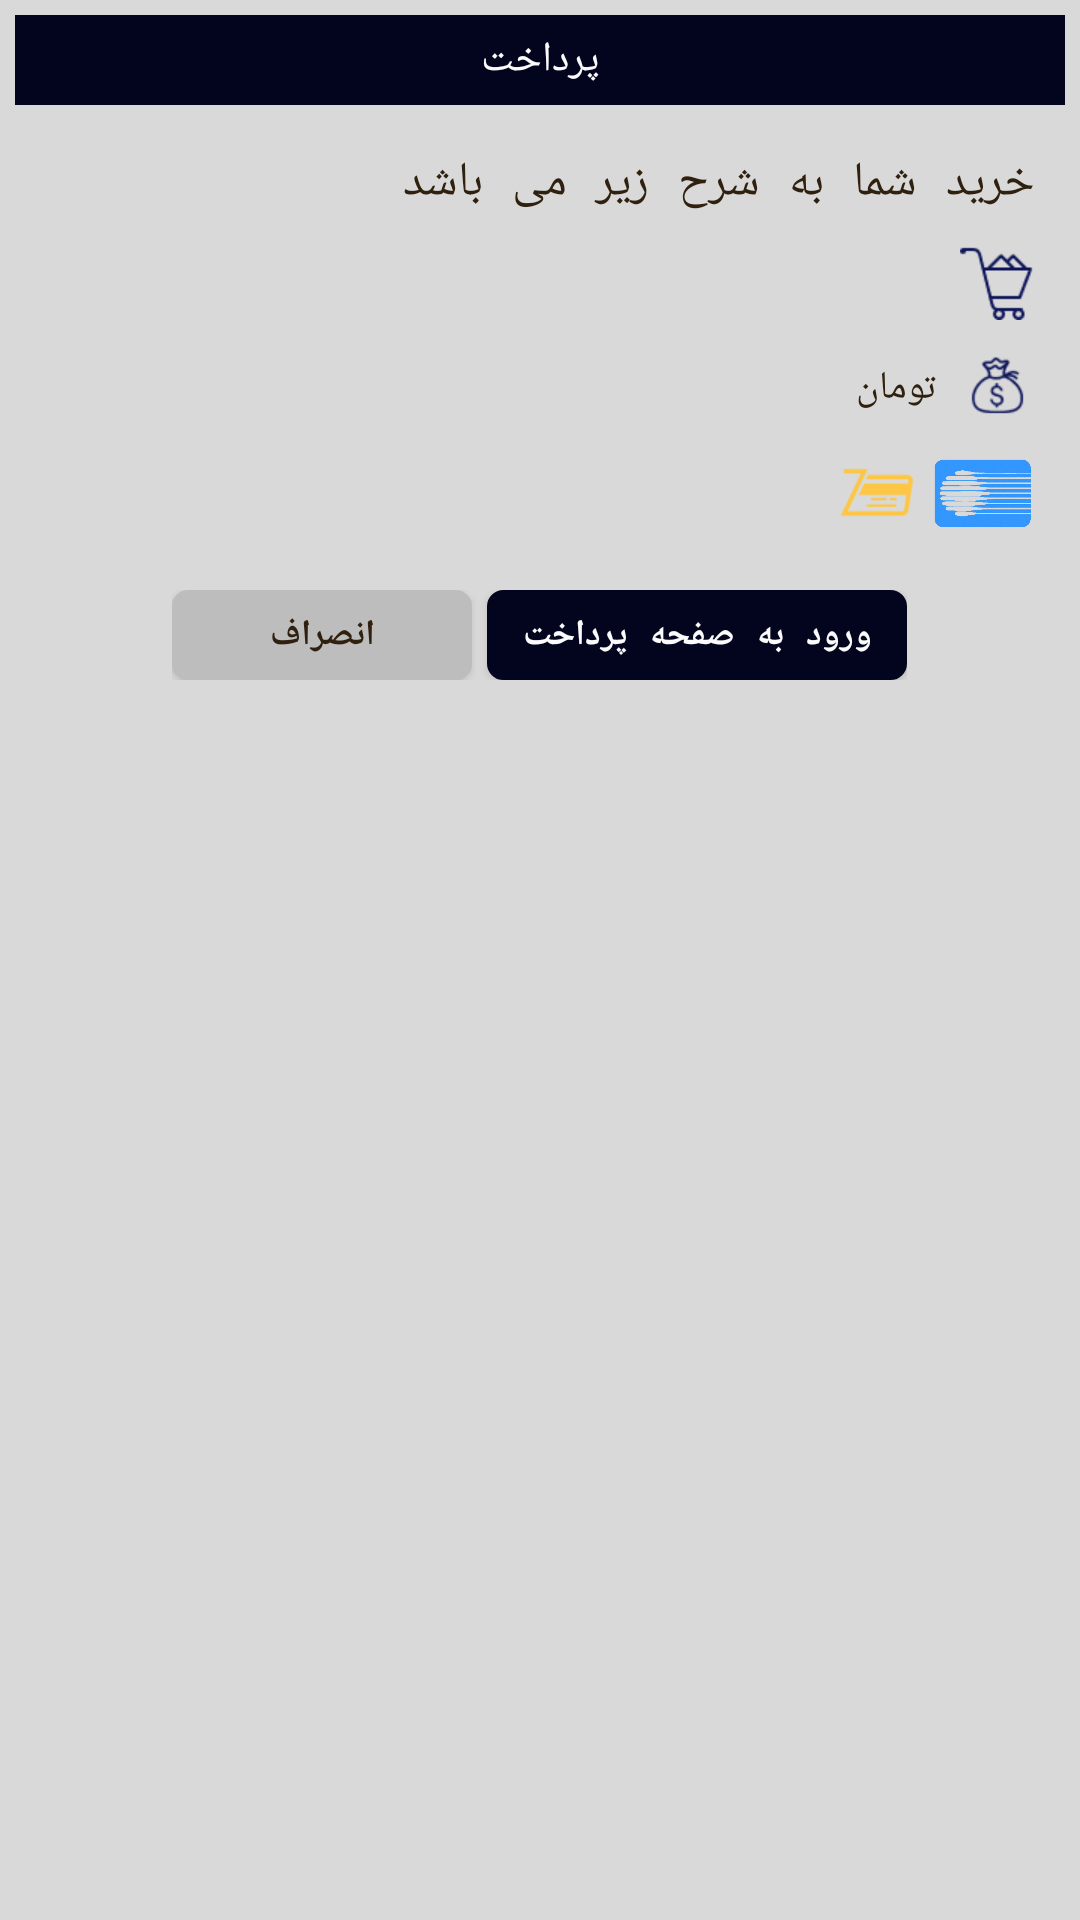

Where to tap for icons on this 1080w x 1920h app screen, as (x=x, y=y):
budget: (x=997, y=385)
shop: (x=996, y=283)
